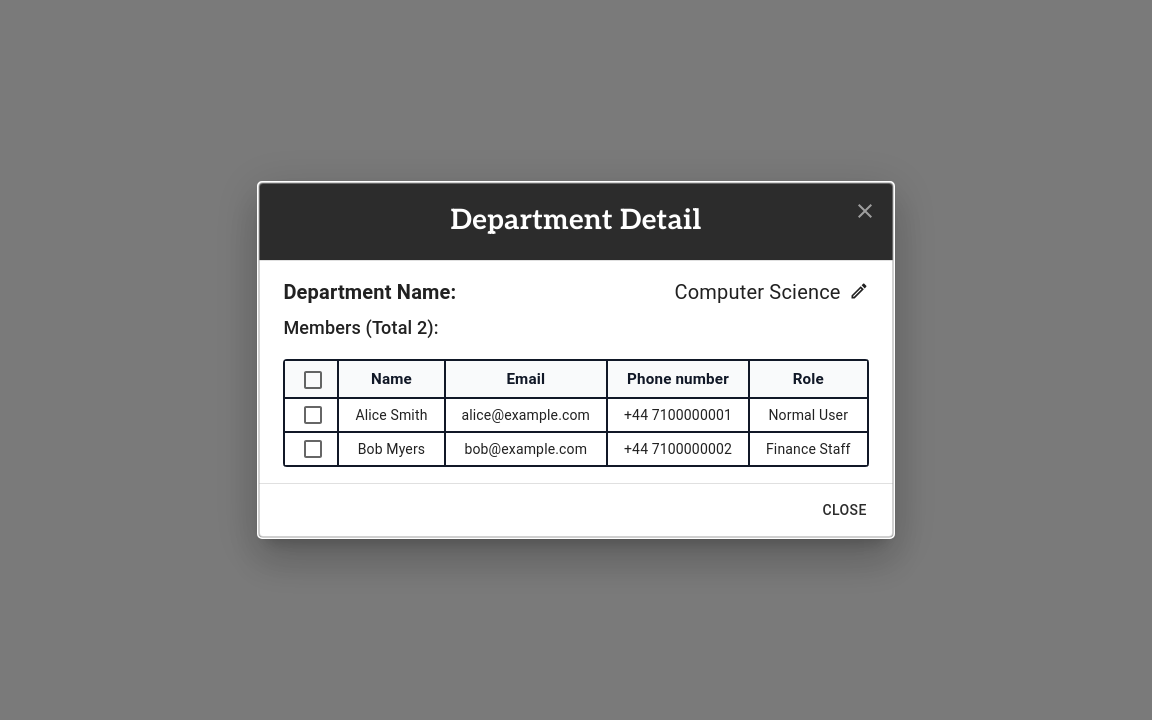
Test: Super-admin ViewDepartmentDialog › selecting rows toggles the change-department toolbar button
Expected: the text "Alice Smith" is shown, [339,399,446,433]
Expected: the text "Change Department" is not shown
Click the checkbox "Alice Smith" at coordinates (576, 416), box [283,399,869,433]
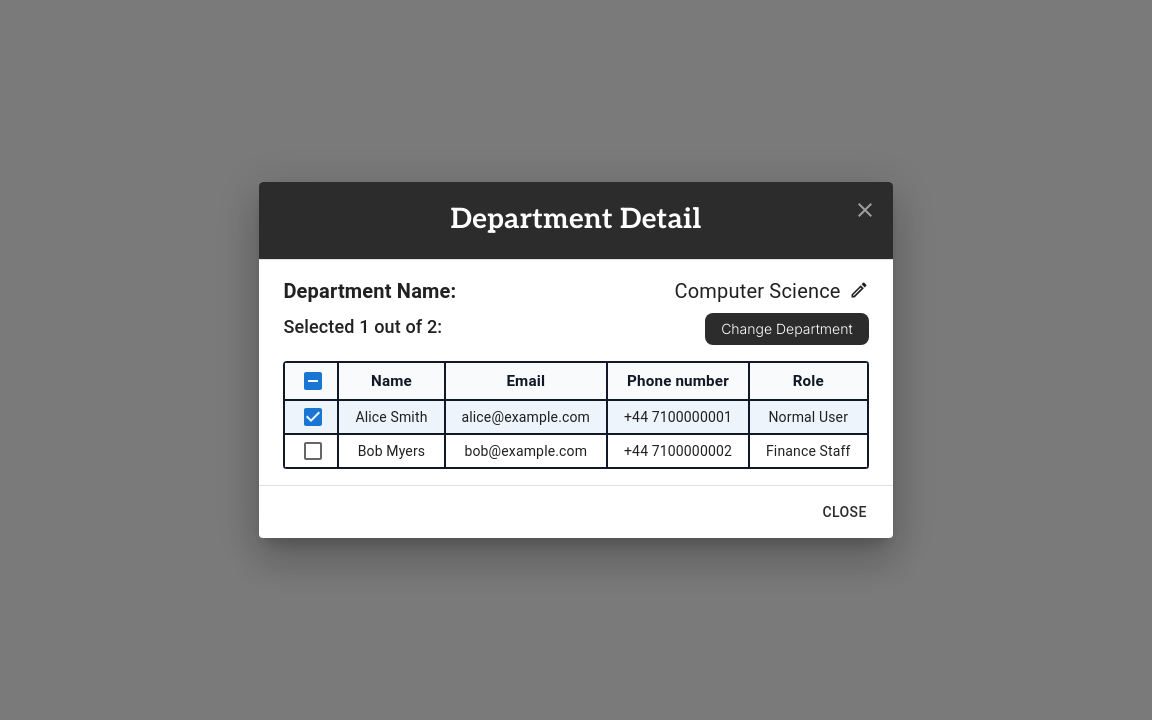
Expected: the button "Change Department" is shown, [705,313,869,345]
Expected: the text "Selected 1 out of 2:" is shown, [283,313,442,345]
